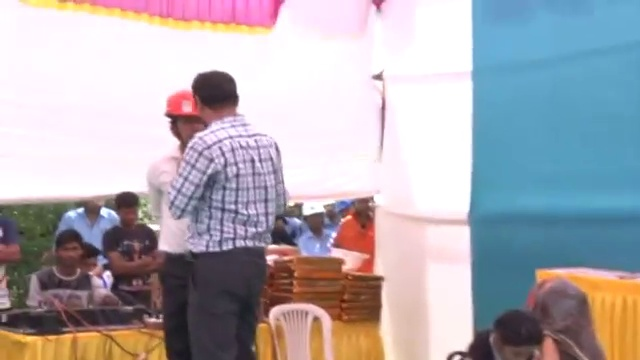helmet: (327, 246, 370, 273), (164, 91, 201, 121), (300, 201, 326, 216)
helmet_off: (534, 283, 599, 350), (178, 76, 247, 137), (480, 316, 549, 359), (53, 230, 83, 267), (111, 198, 140, 228), (79, 240, 103, 274), (348, 202, 373, 227), (84, 200, 104, 217)
helmet_on: (163, 93, 205, 147), (300, 200, 327, 235)
person: (165, 70, 288, 360), (148, 85, 206, 359), (28, 230, 117, 311), (105, 197, 158, 316), (330, 197, 377, 272), (0, 194, 23, 323), (61, 198, 119, 244), (295, 201, 337, 258)
